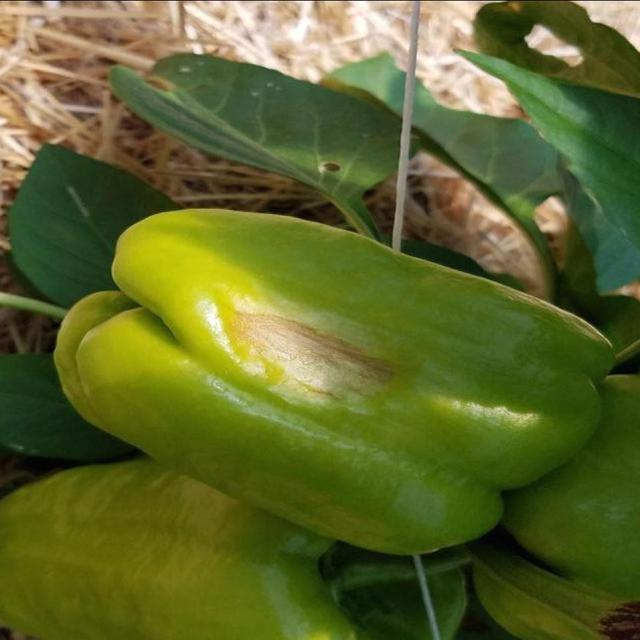Sunscald Fruit: (153, 204, 269, 278)
